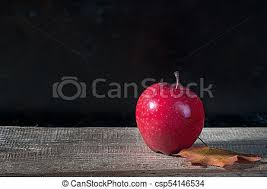apple: (137, 83, 202, 157)
